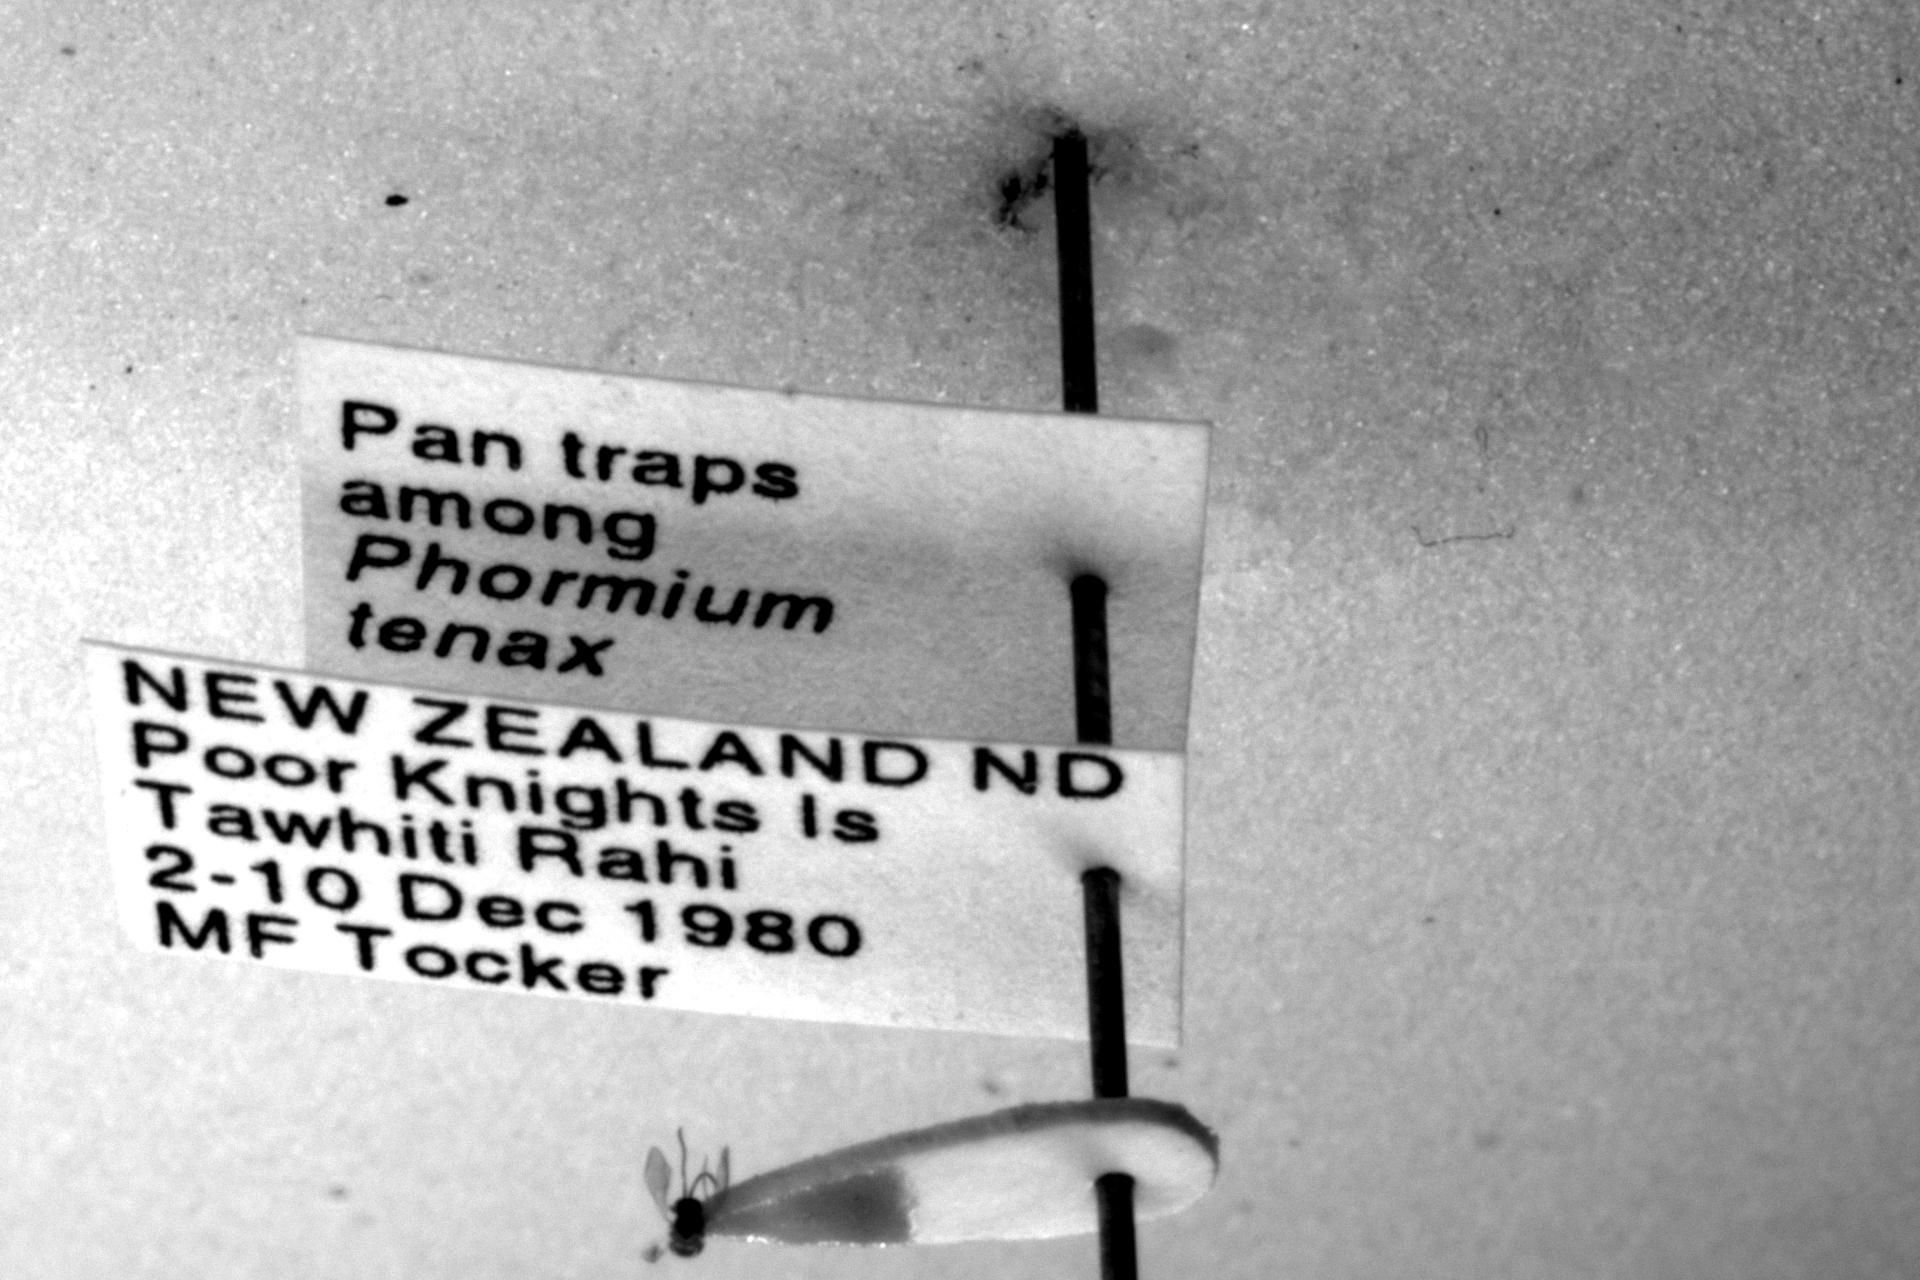typed_label: (86, 646, 1186, 1046), (300, 337, 1207, 750)
